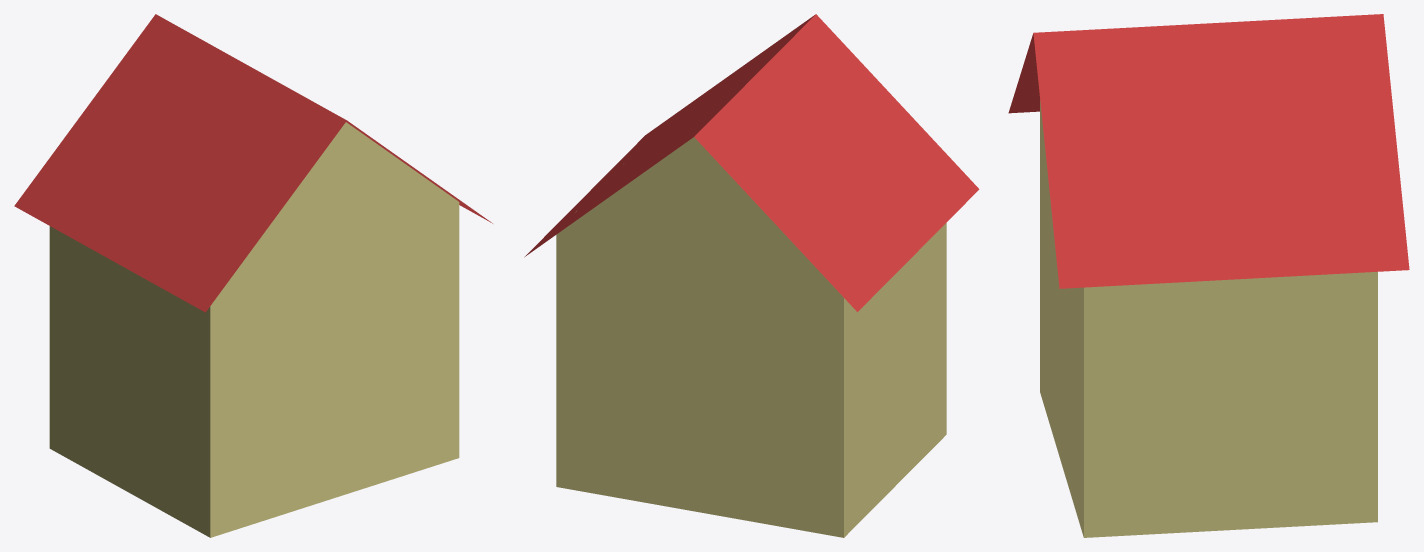
3 renders of one model, left to right at view 1: azimuth 30°, elevation 25°; view 2: azimuth 150°, elevation 25°; view 3: azimuth 270°, elevation 25°, orthographic. The views are drawn at different scales.
Bounding box in the file's own units: 11.9 × 10.69 × 12.69.
